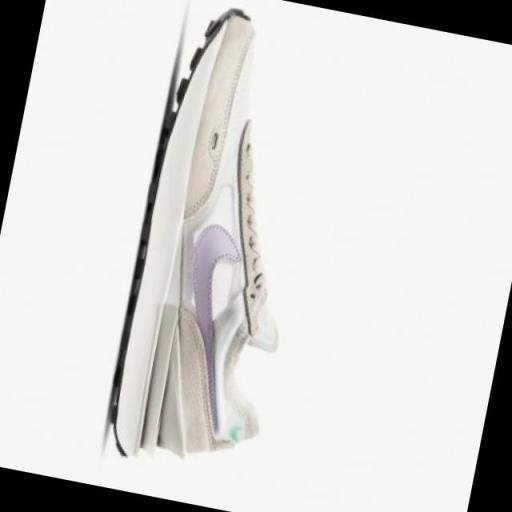Nike: (155, 216, 254, 438)
